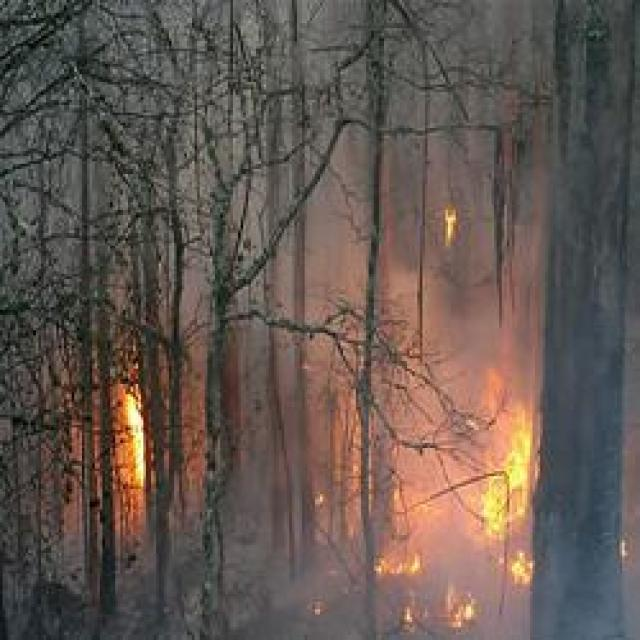Fire: (482, 406, 548, 590), (111, 381, 162, 491)
